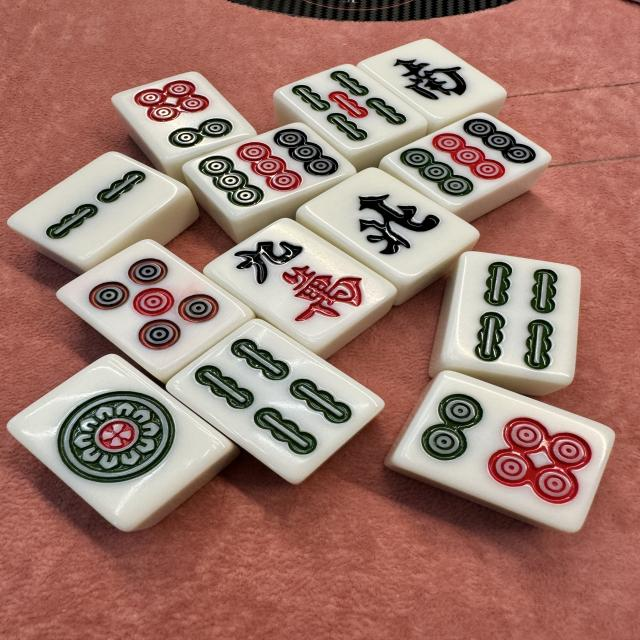hwn: (298, 168, 481, 283)
hws: (359, 38, 506, 122)
sb2: (8, 151, 188, 263)
sb4: (166, 318, 384, 484), (443, 250, 582, 387)
sb5: (275, 64, 427, 152)
sc9: (202, 217, 398, 352)
sd1: (7, 354, 230, 532)
sd5: (56, 239, 252, 381)
sd6: (392, 370, 615, 534), (110, 70, 256, 164)
sd9: (182, 121, 357, 219), (383, 112, 551, 209)
